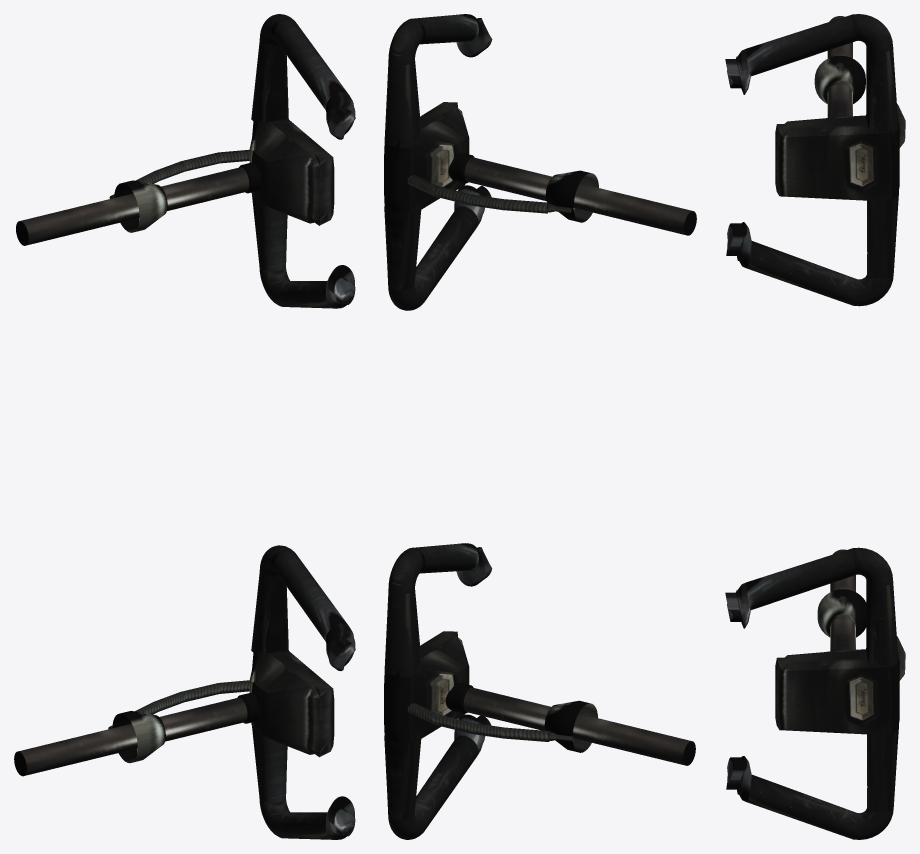
Rendered from c172p-yoke-fg1000.gltf.
3 views of the same model, side by side, from view 1: azimuth 30°, elevation 25°; view 2: azimuth 150°, elevation 25°; view 3: azimuth 270°, elevation 25° (orthographic).
Parts seen in each view (by area): view 1: LeftYoke, RightYoke, LeftYokeMain, RightYokeMain, LeftYokeMount, RightYokeMount, YokeCordRight, YokeCordLeft; view 2: RightYoke, LeftYoke, LeftYokeMain, RightYokeMain, YokeCordLeft, YokeCordRight, RightYokeMount, LeftYokeMount; view 3: LeftYoke, RightYoke, RightYokeMount, LeftYokeMount, LeftYokeMain, RightYokeMain.
Part boxes in pixels (box(x1,y1,x2,y2)): LeftYoke: box(249, 545, 355, 839); RightYoke: box(249, 14, 355, 308); LeftYokeMain: box(14, 692, 259, 776); RightYokeMain: box(16, 162, 261, 245); LeftYokeMount: box(112, 711, 165, 763); RightYokeMount: box(114, 180, 167, 232); YokeCordRight: box(109, 149, 249, 198); YokeCordLeft: box(108, 680, 249, 729); RightYoke: box(384, 14, 492, 310); LeftYoke: box(384, 543, 492, 839); LeftYokeMain: box(445, 683, 695, 765); RightYokeMain: box(448, 153, 696, 235); YokeCordLeft: box(407, 703, 573, 741); YokeCordRight: box(407, 175, 571, 213); RightYokeMount: box(545, 170, 598, 222); LeftYokeMount: box(544, 700, 597, 752); LeftYoke: box(725, 547, 899, 839); RightYoke: box(725, 14, 899, 306); RightYokeMount: box(814, 55, 865, 103); LeftYokeMount: box(817, 589, 866, 637); LeftYokeMain: box(830, 549, 855, 651); RightYokeMain: box(827, 16, 852, 117).
Bounding box in the file's own units: 0.2579 × 0.71 × 0.1411.
Materials: 2 (2 with a texture image).
